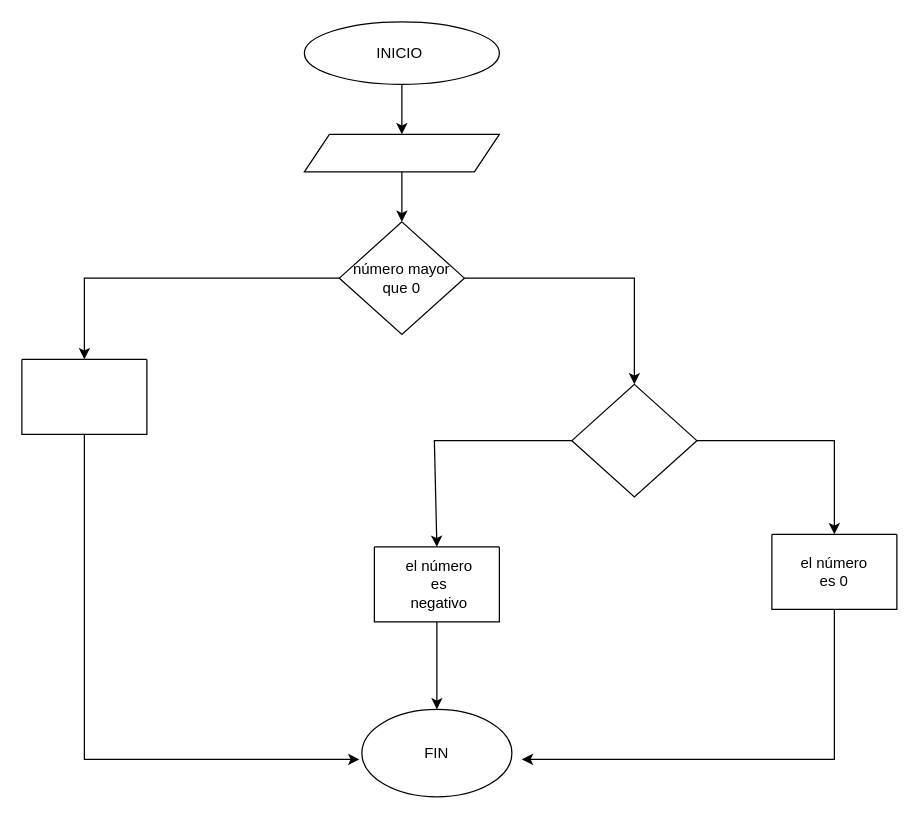
The diagram is 919 pixels wide and 819 high, and some of its shapes have lost their labels. The centre of each missing label's shape, as x and y in pixels:
"el número es positivo" belongs at pixel 84 396.
"numero" belongs at pixel 401 152.
"número menor que 0" belongs at pixel 634 440.
